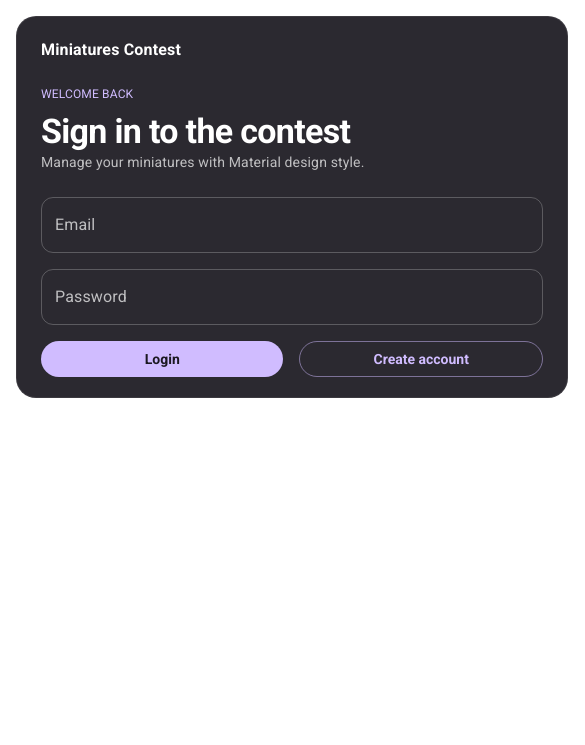
Login smoke tests › shows error toast when API throws an error
This screenshot has width=585, height=745.
Type "bad@example.com" into the field labelled "Email" at [292, 224], box x1=41 y1=196 x2=543 y2=252
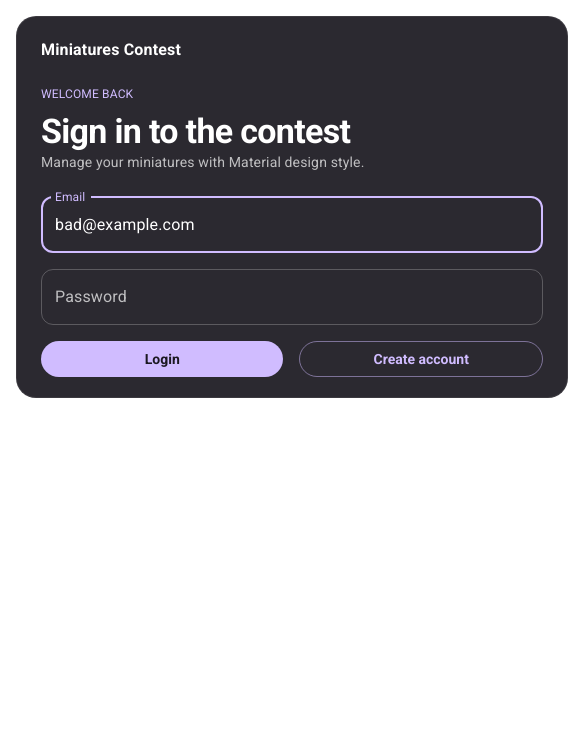
Type "wrongpass" into the password field labelled "Password" at [292, 296], box x1=41 y1=268 x2=543 y2=324
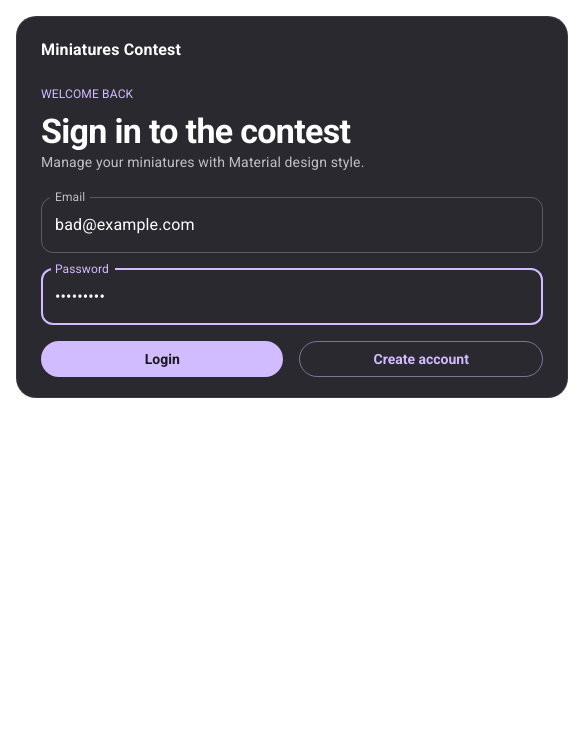
Click the button "Login" at [162, 359], box x1=41 y1=340 x2=283 y2=377
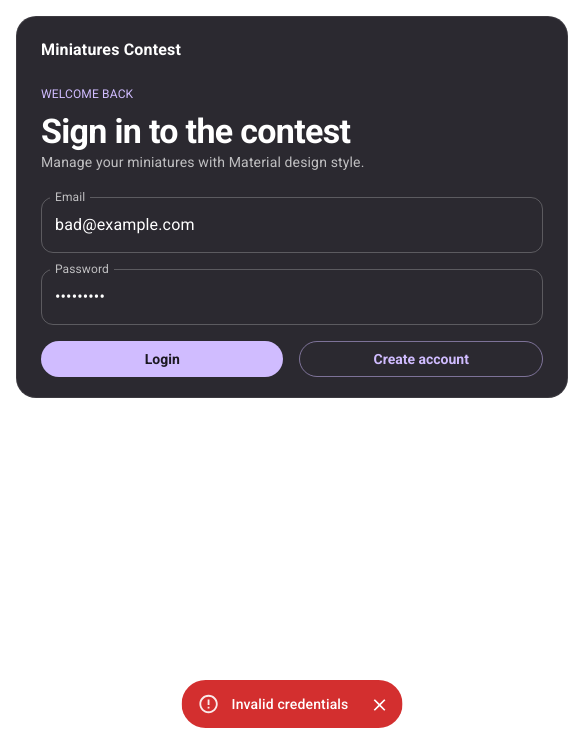
Expected: the text "Invalid credentials" is shown, x1=232 y1=696 x2=348 y2=712
